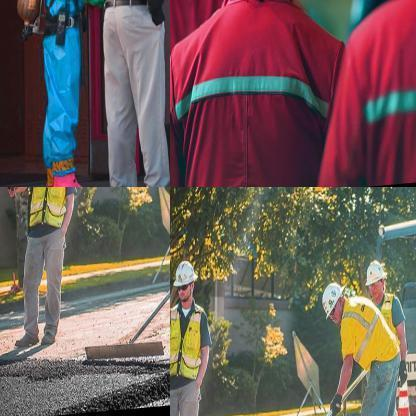vest: (173, 0, 340, 186), (361, 0, 415, 186), (341, 300, 401, 374), (170, 0, 230, 60), (170, 301, 205, 383), (38, 0, 93, 47), (31, 187, 70, 231), (370, 298, 404, 346)
